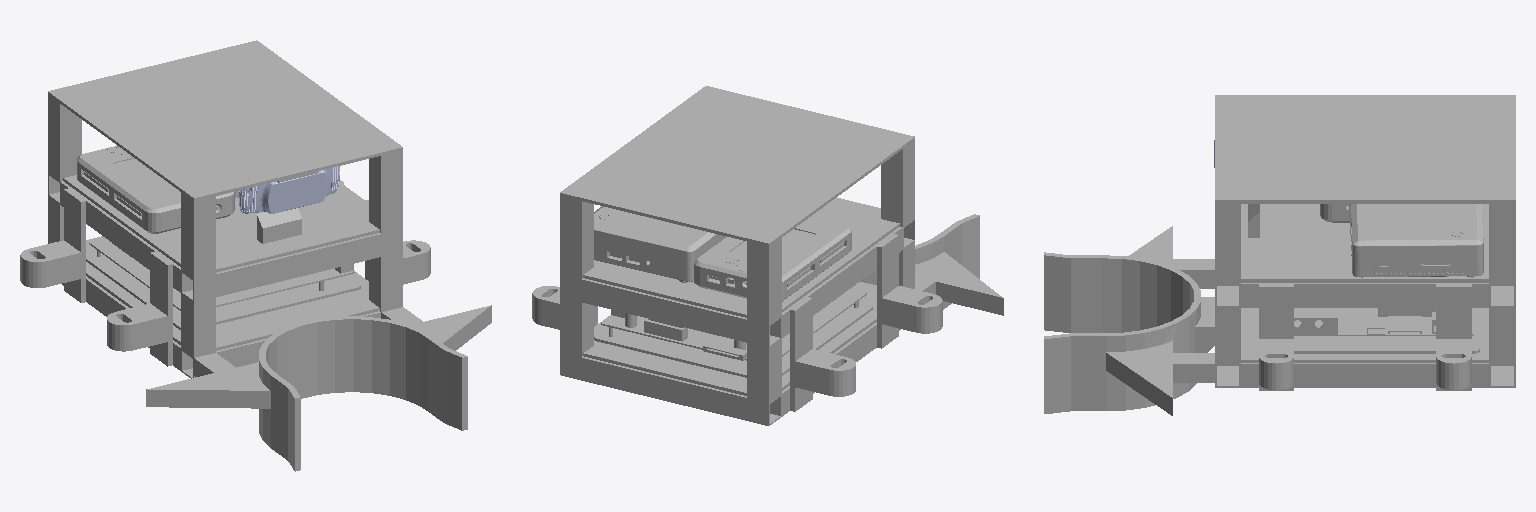
The robot description file, URDF, robot "lide":
<?xml version="1.0" encoding="utf-8"?>
<!-- This URDF was automatically created by SolidWorks to URDF Exporter! Originally created by [author] ([email redacted]) 
     Commit Version: 1.5.1-0-g916b5db  Build Version: 1.5.7152.31018
     For more information, please see http://wiki.ros.org/sw_urdf_exporter -->
<robot
  name="lide">
  <link
    name="base_link">
    <inertial>
      <origin
        xyz="0.10684 0.1189 0.070181"
        rpy="0 0 0" />
      <mass
        value="2.9919" />
      <inertia
        ixx="0.0057743"
        ixy="3.4753E-07"
        ixz="-4.2091E-07"
        iyy="0.0065511"
        iyz="-1.7372E-05"
        izz="0.011551" />
    </inertial>
    <visual>
      <origin
        xyz="0 0 0"
        rpy="0 0 0" />
      <geometry>
        <mesh
          filename="package://lide/meshes/base_link.STL" />
      </geometry>
      <material
        name="">
        <color
          rgba="0.75294 0.75294 0.75294 1" />
      </material>
    </visual>
    <collision>
      <origin
        xyz="0 0 0"
        rpy="0 0 0" />
      <geometry>
        <mesh
          filename="package://lide/meshes/base_link.STL" />
      </geometry>
    </collision>
  </link>
  <link
    name="LFS">
    <inertial>
      <origin
        xyz="0.04556 0.0083094 0.0029762"
        rpy="0 0 0" />
      <mass
        value="0.072793" />
      <inertia
        ixx="2.2093E-05"
        ixy="-1.6485E-08"
        ixz="-1.5645E-07"
        iyy="1.6263E-05"
        iyz="2.9641E-09"
        izz="1.8084E-05" />
    </inertial>
    <visual>
      <origin
        xyz="0 0 0"
        rpy="0 0 0" />
      <geometry>
        <mesh
          filename="package://lide/meshes/LFS.STL" />
      </geometry>
      <material
        name="">
        <color
          rgba="0.75294 0.75294 0.75294 1" />
      </material>
    </visual>
    <collision>
      <origin
        xyz="0 0 0"
        rpy="0 0 0" />
      <geometry>
        <mesh
          filename="package://lide/meshes/LFS.STL" />
      </geometry>
    </collision>
  </link>
  <joint
    name="LFS"
    type="fixed">
    <origin
      xyz="0.20441 0.054044 -0.014503"
      rpy="1.5708 0 0" />
    <parent
      link="base_link" />
    <child
      link="LFS" />
    <axis
      xyz="0 0 0" />
  </joint>
  <link
    name="LFW">
    <inertial>
      <origin
        xyz="0.015 0 3.4694E-18"
        rpy="0 0 0" />
      <mass
        value="0.76708" />
      <inertia
        ixx="0.0011643"
        ixy="4.4576E-22"
        ixz="-1.8299E-20"
        iyy="0.00063966"
        iyz="-1.3553E-20"
        izz="0.00063966" />
    </inertial>
    <visual>
      <origin
        xyz="0 0 0"
        rpy="0 0 0" />
      <geometry>
        <mesh
          filename="package://lide/meshes/LFW.STL" />
      </geometry>
      <material
        name="">
        <color
          rgba="0.89804 0.91765 0.92941 1" />
      </material>
    </visual>
    <collision>
      <origin
        xyz="0 0 0"
        rpy="0 0 0" />
      <geometry>
        <mesh
          filename="package://lide/meshes/LFW.STL" />
      </geometry>
    </collision>
  </link>
  <joint
    name="LFW"
    type="continuous">
    <origin
      xyz="0.063346 -0.006798 0.015044"
      rpy="-1.6264 0 0" />
    <parent
      link="LFS" />
    <child
      link="LFW" />
    <axis
      xyz="1 0 0" />
    <limit
      effort="3.1"
      velocity="7" />
  </joint>
  <link
    name="RFS">
    <inertial>
      <origin
        xyz="-0.019183 -0.0090093 0.052006"
        rpy="0 0 0" />
      <mass
        value="0.072793" />
      <inertia
        ixx="2.2093E-05"
        ixy="-1.6485E-08"
        ixz="1.5645E-07"
        iyy="1.6263E-05"
        iyz="-2.9641E-09"
        izz="1.8084E-05" />
    </inertial>
    <visual>
      <origin
        xyz="0 0 0"
        rpy="0 0 0" />
      <geometry>
        <mesh
          filename="package://lide/meshes/RFS.STL" />
      </geometry>
      <material
        name="">
        <color
          rgba="0.75294 0.75294 0.75294 1" />
      </material>
    </visual>
    <collision>
      <origin
        xyz="0 0 0"
        rpy="0 0 0" />
      <geometry>
        <mesh
          filename="package://lide/meshes/RFS.STL" />
      </geometry>
    </collision>
  </link>
  <joint
    name="RFS"
    type="fixed">
    <origin
      xyz="-0.020784 0.10307 0.0027844"
      rpy="1.5708 0 0" />
    <parent
      link="base_link" />
    <child
      link="RFS" />
    <axis
      xyz="0 0 0" />
  </joint>
  <link
    name="RFW">
    <inertial>
      <origin
        xyz="-0.015 0 0"
        rpy="0 0 0" />
      <mass
        value="0.76708" />
      <inertia
        ixx="0.0011643"
        ixy="-1.2315E-36"
        ixz="0"
        iyy="0.00063966"
        iyz="8.0046E-39"
        izz="0.00063966" />
    </inertial>
    <visual>
      <origin
        xyz="0 0 0"
        rpy="0 0 0" />
      <geometry>
        <mesh
          filename="package://lide/meshes/RFW.STL" />
      </geometry>
      <material
        name="">
        <color
          rgba="0.89804 0.91765 0.92941 1" />
      </material>
    </visual>
    <collision>
      <origin
        xyz="0 0 0"
        rpy="0 0 0" />
      <geometry>
        <mesh
          filename="package://lide/meshes/RFW.STL" />
      </geometry>
    </collision>
  </link>
  <joint
    name="RFW"
    type="continuous">
    <origin
      xyz="-0.036969 -0.024084 0.064073"
      rpy="0 0 0" />
    <parent
      link="RFS" />
    <child
      link="RFW" />
    <axis
      xyz="1 0 0" />
    <limit
      effort="3.1"
      velocity="7" />
  </joint>
  <link
    name="RBS">
    <inertial>
      <origin
        xyz="0 -0.045029 0"
        rpy="0 0 0" />
      <mass
        value="0.44204" />
      <inertia
        ixx="0.00028466"
        ixy="5.986E-23"
        ixz="-7.0058E-22"
        iyy="0.00017531"
        iyz="1.561E-21"
        izz="0.0002841" />
    </inertial>
    <visual>
      <origin
        xyz="0 0 0"
        rpy="0 0 0" />
      <geometry>
        <mesh
          filename="package://lide/meshes/RBS.STL" />
      </geometry>
      <material
        name="">
        <color
          rgba="0.89804 0.91765 0.92941 1" />
      </material>
    </visual>
    <collision>
      <origin
        xyz="0 0 0"
        rpy="0 0 0" />
      <geometry>
        <mesh
          filename="package://lide/meshes/RBS.STL" />
      </geometry>
    </collision>
  </link>
  <joint
    name="RBS"
    type="fixed">
    <origin
      xyz="0.25 0.202 0.0087742"
      rpy="1.5708 0 0" />
    <parent
      link="base_link" />
    <child
      link="RBS" />
    <axis
      xyz="0 0 0" />
  </joint>
  <link
    name="LBS">
    <inertial>
      <origin
        xyz="0 -0.045029 -2.7756E-17"
        rpy="0 0 0" />
      <mass
        value="0.44204" />
      <inertia
        ixx="0.00028466"
        ixy="-1.2721E-21"
        ixz="-4.8787E-23"
        iyy="0.00017531"
        iyz="1.4271E-21"
        izz="0.0002841" />
    </inertial>
    <visual>
      <origin
        xyz="0 0 0"
        rpy="0 0 0" />
      <geometry>
        <mesh
          filename="package://lide/meshes/LBS.STL" />
      </geometry>
      <material
        name="">
        <color
          rgba="0.89804 0.91765 0.92941 1" />
      </material>
    </visual>
    <collision>
      <origin
        xyz="0 0 0"
        rpy="0 0 0" />
      <geometry>
        <mesh
          filename="package://lide/meshes/LBS.STL" />
      </geometry>
    </collision>
  </link>
  <joint
    name="LBS"
    type="fixed">
    <origin
      xyz="-0.040003 0.202 0.0087742"
      rpy="1.5708 0 0" />
    <parent
      link="base_link" />
    <child
      link="LBS" />
    <axis
      xyz="0 0 0" />
  </joint>
  <link
    name="fcam">
    <inertial>
      <origin
        xyz="-0.011554 -2.6447E-06 0.0012903"
        rpy="0 0 0" />
      <mass
        value="0.043612" />
      <inertia
        ixx="2.3571E-05"
        ixy="-1.0183E-09"
        ixz="2.1759E-08"
        iyy="4.2948E-06"
        iyz="-8.851E-10"
        izz="2.2106E-05" />
    </inertial>
    <visual>
      <origin
        xyz="0 0 0"
        rpy="0 0 0" />
      <geometry>
        <mesh
          filename="package://lide/meshes/fcam.STL" />
      </geometry>
      <material
        name="">
        <color
          rgba="0.79216 0.81961 0.93333 1" />
      </material>
    </visual>
    <collision>
      <origin
        xyz="0 0 0"
        rpy="0 0 0" />
      <geometry>
        <mesh
          filename="package://lide/meshes/fcam.STL" />
      </geometry>
    </collision>
  </link>
  <joint
    name="fcam"
    type="fixed">
    <origin
      xyz="0.105000000000001 0.00130733614121363 0.155139653188175"
      rpy="0 0.0872664625997096 -1.5707963267949" />
    <parent
      link="base_link" />
    <child
      link="fcam" />
    <axis
      xyz="0 0 0" />
  </joint>
  <link
    name="bcam">
    <inertial>
      <origin
        xyz="-0.020103 -2.6435E-06 -0.0072587"
        rpy="0 0 0" />
      <mass
        value="0.043612" />
      <inertia
        ixx="2.3571E-05"
        ixy="-1.0183E-09"
        ixz="2.1758E-08"
        iyy="4.2948E-06"
        iyz="-8.8548E-10"
        izz="2.2106E-05" />
    </inertial>
    <visual>
      <origin
        xyz="0 0 0"
        rpy="0 0 0" />
      <geometry>
        <mesh
          filename="package://lide/meshes/bcam.STL" />
      </geometry>
      <material
        name="">
        <color
          rgba="0.79216 0.81961 0.93333 1" />
      </material>
    </visual>
    <collision>
      <origin
        xyz="0 0 0"
        rpy="0 0 0" />
      <geometry>
        <mesh
          filename="package://lide/meshes/bcam.STL" />
      </geometry>
    </collision>
  </link>
  <joint
    name="bcam"
    type="fixed">
    <origin
      xyz="0.105 0 0.11323"
      rpy="0 0.7854 -1.5708" />
    <parent
      link="base_link" />
    <child
      link="bcam" />
    <axis
      xyz="0 0 0" />
  </joint>
  <link
    name="Lidar">
    <inertial>
      <origin
        xyz="0.013523 0.00046196 -0.028765"
        rpy="0 0 0" />
      <mass
        value="0.073085" />
      <inertia
        ixx="1.9581E-05"
        ixy="-1.0393E-07"
        ixz="-4.2839E-07"
        iyy="2.4125E-05"
        iyz="9.4271E-09"
        izz="4.1418E-05" />
    </inertial>
    <visual>
      <origin
        xyz="0 0 0"
        rpy="0 0 0" />
      <geometry>
        <mesh
          filename="package://lide/meshes/Lidar.STL" />
      </geometry>
      <material
        name="">
        <color
          rgba="0.79216 0.81961 0.93333 1" />
      </material>
    </visual>
    <collision>
      <origin
        xyz="0 0 0"
        rpy="0 0 0" />
      <geometry>
        <mesh
          filename="package://lide/meshes/Lidar.STL" />
      </geometry>
    </collision>
  </link>
  <joint
    name="Lidar"
    type="fixed">
    <origin
      xyz="0.10401 0.19458 0.2285"
      rpy="0 0 -1.5708" />
    <parent
      link="base_link" />
    <child
      link="Lidar" />
    <axis
      xyz="0 0 0" />
  </joint>
  <link
    name="imu_link">
    <inertial>
      <origin
        xyz="0 0 0"
        rpy="0 0 0" />
      <mass
        value="0" />
      <inertia
        ixx="0"
        ixy="0"
        ixz="0"
        iyy="0"
        iyz="0"
        izz="0" />
    </inertial>
    <visual>
      <origin
        xyz="0 0 0"
        rpy="0 0 0" />
      <geometry>
        <mesh
          filename="package://lide/meshes/imu_link.STL" />
      </geometry>
      <material
        name="">
        <color
          rgba="1 1 1 1" />
      </material>
    </visual>
    <collision>
      <origin
        xyz="0 0 0"
        rpy="0 0 0" />
      <geometry>
        <mesh
          filename="package://lide/meshes/imu_link.STL" />
      </geometry>
    </collision>
  </link>
  <joint
    name="imu_link"
    type="fixed">
    <origin
      xyz="0.105 0.039 0.177"
      rpy="0 0 -1.5708" />
    <parent
      link="base_link" />
    <child
      link="imu_link" />
    <axis
      xyz="0 0 0" />
  </joint>
</robot>

--- Render facts (derived) ---
The picture shows the robot from 3 angles, left to right: view 1: azimuth 30°, elevation 25°; view 2: azimuth 150°, elevation 25°; view 3: azimuth 270°, elevation 25°; orthographic projection.
Robot: lide — 11 links, 10 joints (2 continuous, 8 fixed); root link base_link; default pose: all joints at 0.
Links seen in each view (by area): view 1: base_link, fcam; view 2: base_link; view 3: base_link.
Link boxes in pixels (x1,y1,x2,y2): base_link: [20, 40, 491, 471]; fcam: [239, 166, 339, 213]; base_link: [532, 86, 1003, 425]; base_link: [1044, 95, 1515, 415].
Bounding box of the posed robot: 0.346 × 0.398 × 0.208 m (x, y, z).
Meshes: 11 distinct files referenced, 2 mesh visuals loaded (2 binary STL); not drawn: 9 (reference not matched to a file when rendering).